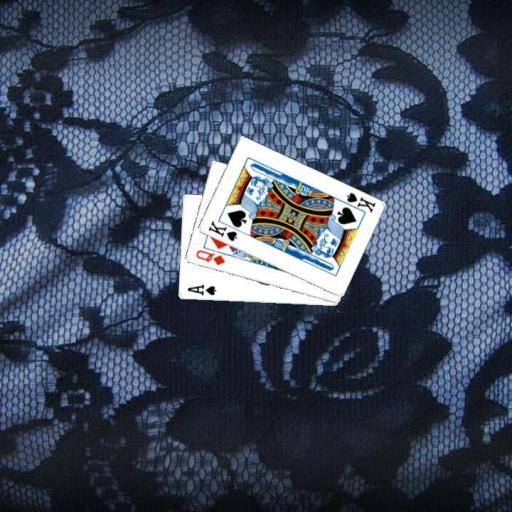AS: (183, 282, 217, 297)
KS: (338, 189, 377, 216), (205, 218, 238, 243)
QD: (193, 247, 226, 267)
